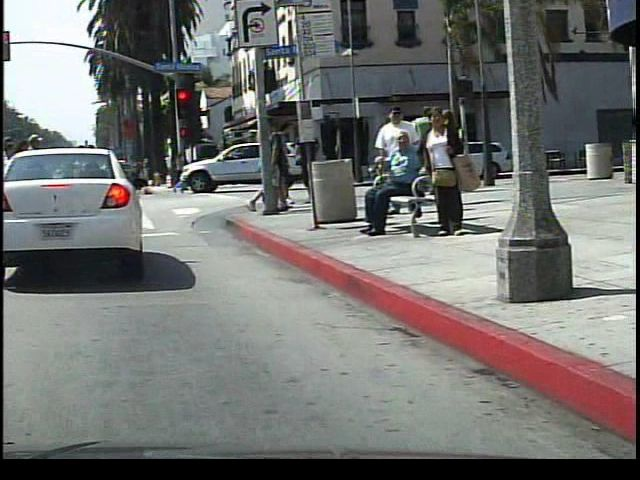person: (357, 133, 426, 240), (413, 101, 465, 237), (256, 120, 299, 212), (163, 147, 188, 198)
